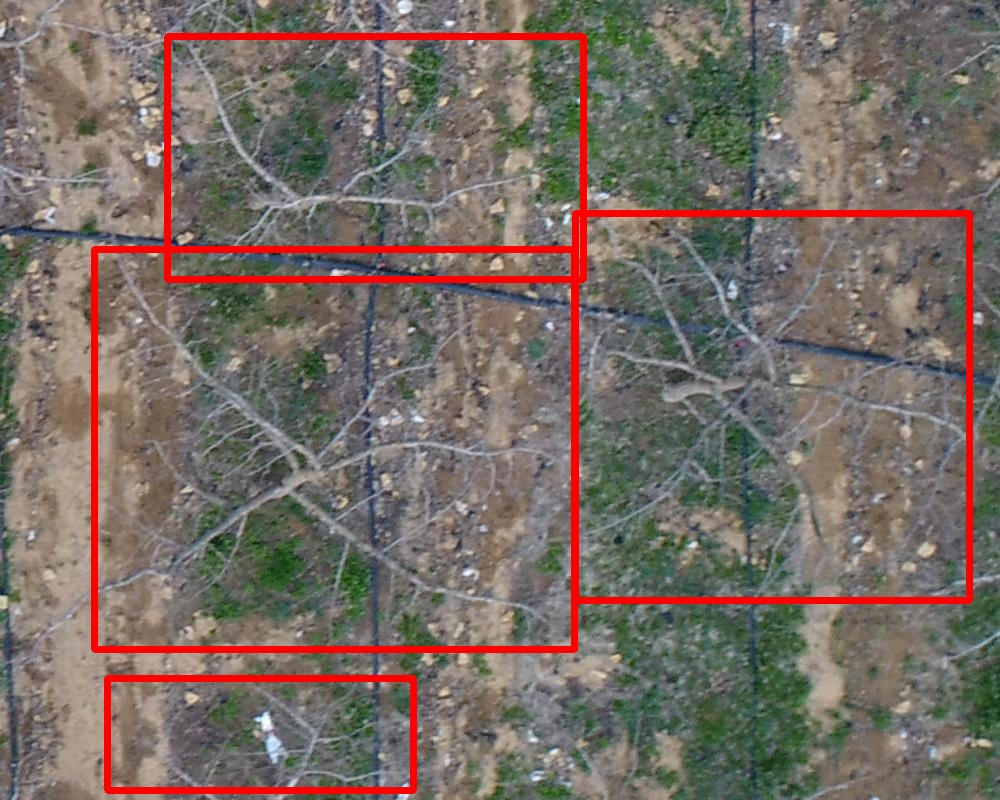apple: (94, 249, 574, 649), (575, 213, 969, 600), (167, 36, 583, 279), (107, 678, 413, 790)
